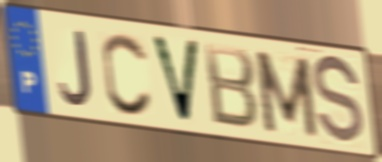B: (201, 40, 260, 133)
C: (100, 29, 155, 120)
J: (57, 28, 94, 108)
M: (251, 47, 321, 141)
S: (311, 53, 366, 150)
V: (148, 31, 202, 128)
